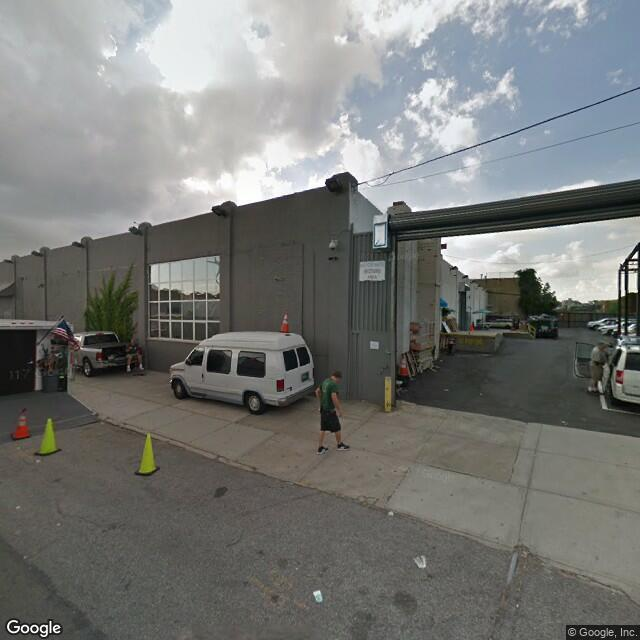litter: (405, 551, 437, 572), (306, 583, 336, 602)
